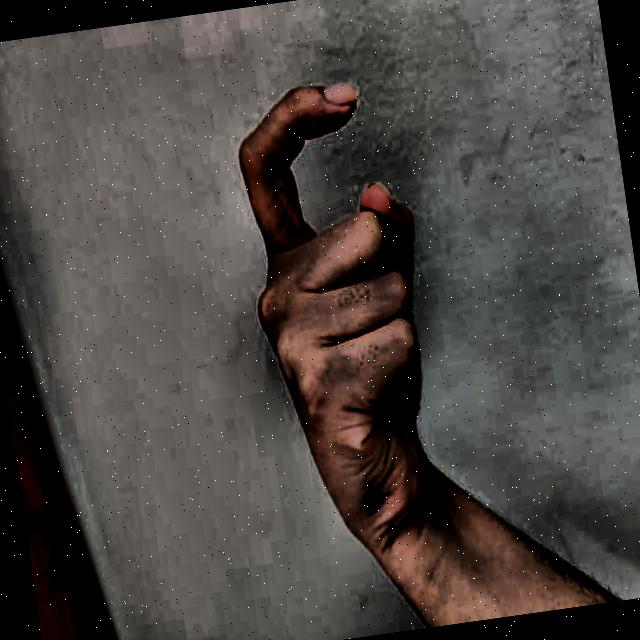E: (175, 23, 541, 575)
